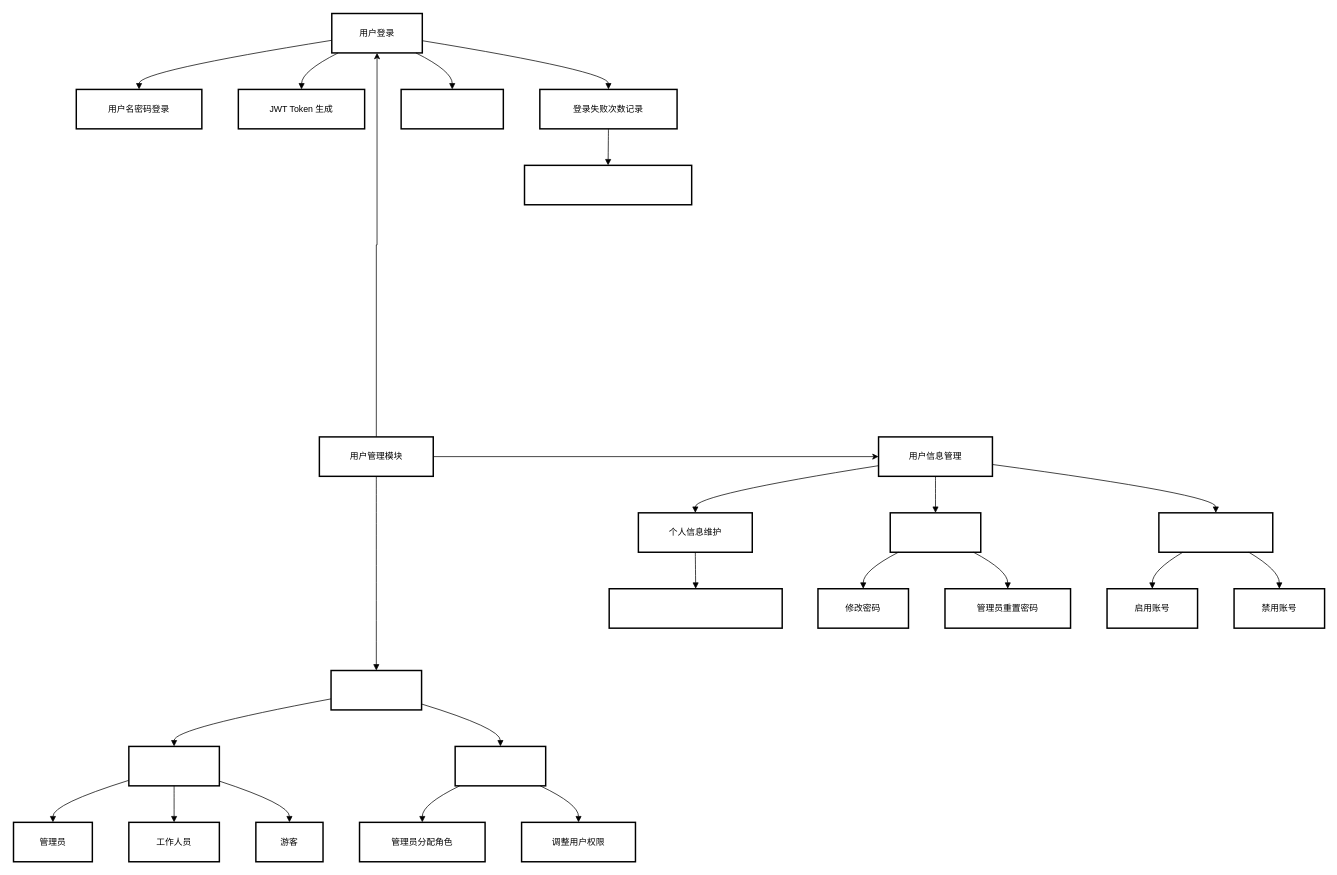
Image size: 1337x875. Some labels were removed from this diagram. Here are the shapes that lost their labels. From the top down, the centre of each, then its label:
the point at 452,108: 记住我功能
the point at 607,184: 失败5次锁定账号30分钟
the point at 935,532: 密码管理
the point at 1215,532: 用户账号管理
the point at 695,608: 修改姓名/联系方式/邮箱
the point at 376,689: 权限管理
the point at 174,765: 角色定义
the point at 500,765: 权限分配
